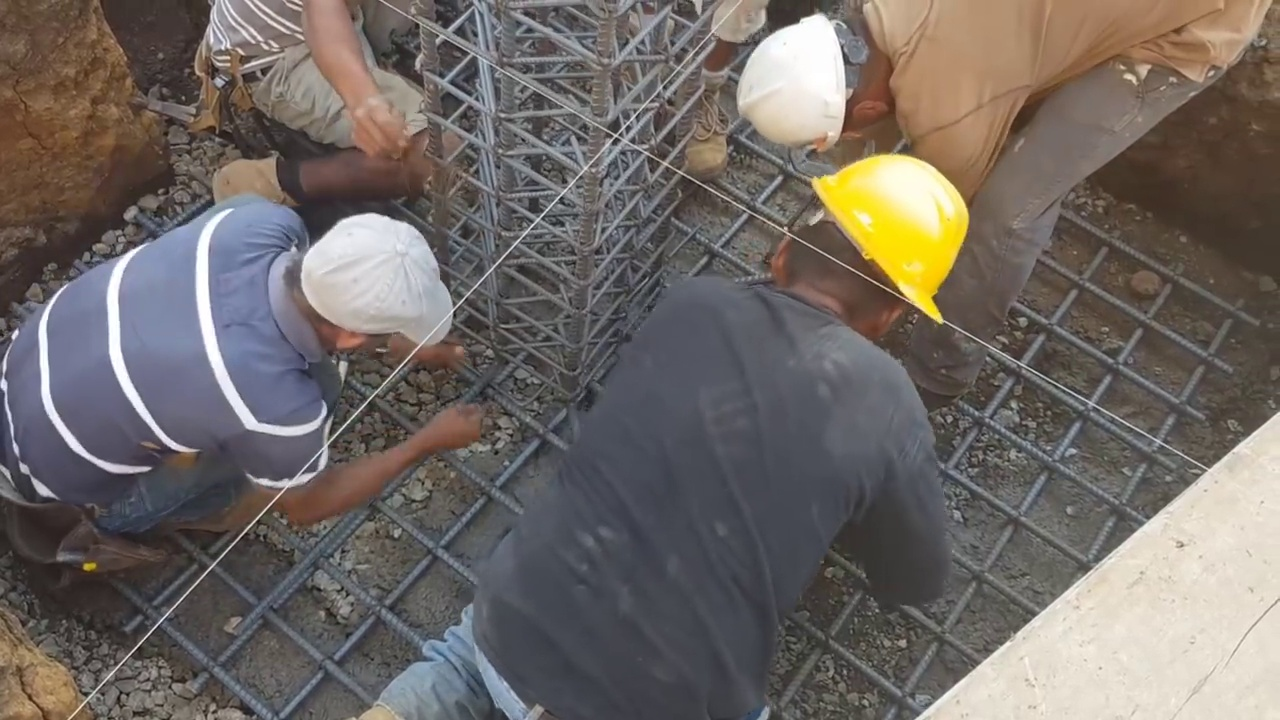helmet: (811, 154, 970, 326), (738, 12, 846, 146)
helmet-off: (278, 212, 454, 363)
helmet-on: (751, 152, 969, 350), (733, 10, 902, 150)
person: (350, 153, 972, 717), (730, 2, 1272, 417), (0, 196, 482, 562), (192, 0, 471, 231)
